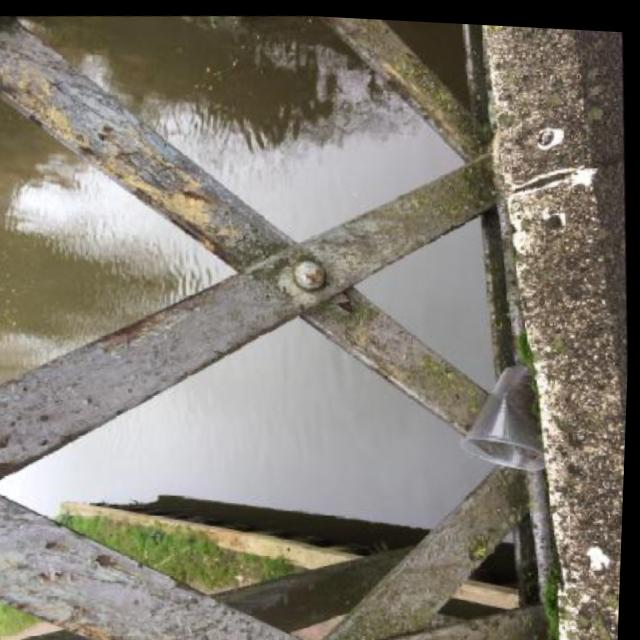plastic: (455, 359, 552, 476)
